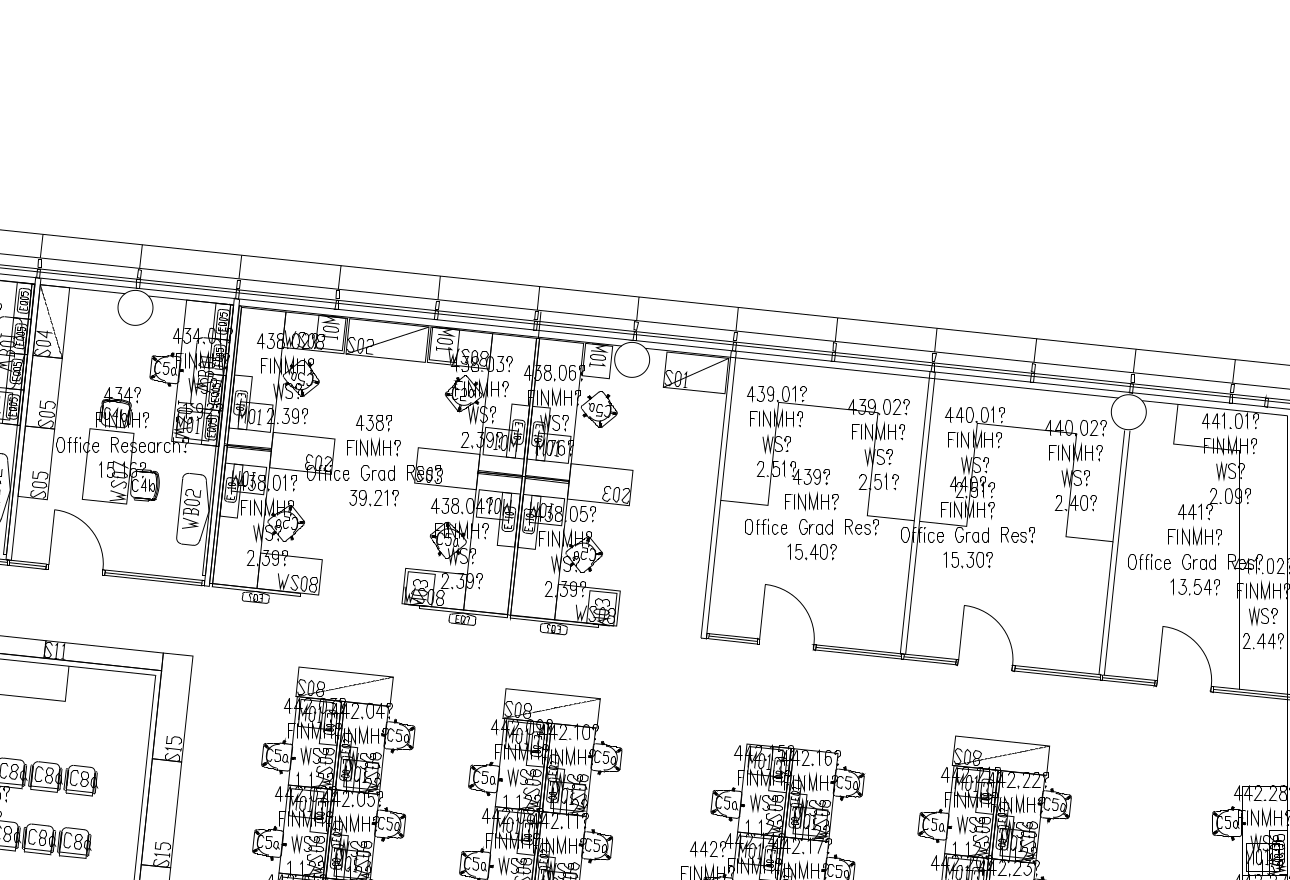door: (756, 570, 823, 663), (955, 594, 1022, 687), (1150, 609, 1217, 702), (43, 505, 110, 598)
